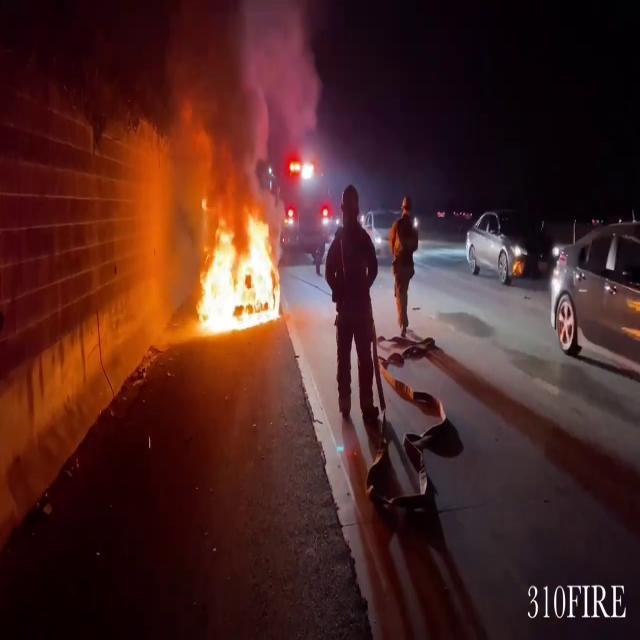Fire: (188, 202, 285, 338)
Smoke: (139, 0, 323, 201)
